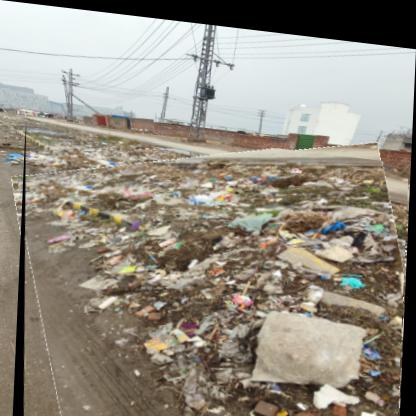Garbage: (17, 118, 412, 416)
